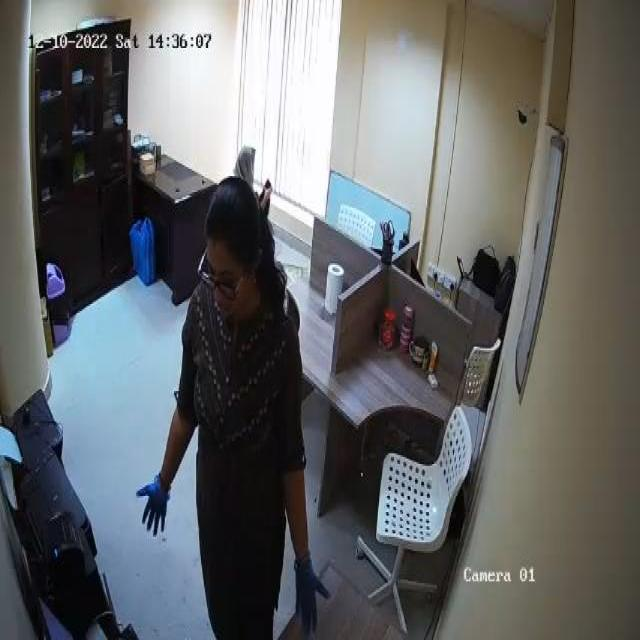gloved_hand: (291, 553, 332, 636), (135, 473, 173, 546)
